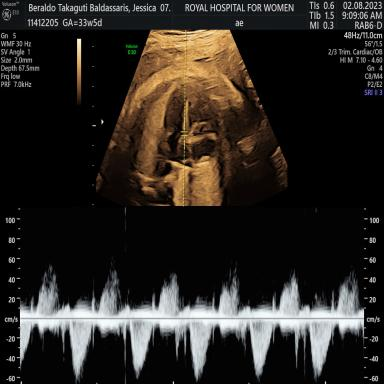Ultrasound-Waves: (24, 221, 362, 379)
